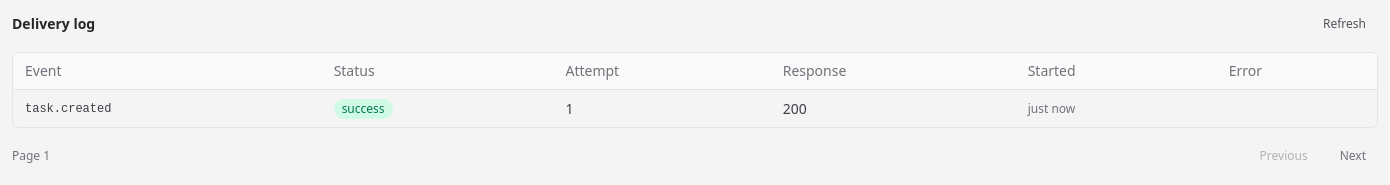
Test case: WebhookDeliveries pagination › disables Next when hasMore=false and forwards the cursor when Next is clicked
Expected: the number of rows with test id "webhook-delivery-row" is 1, [13,90,1377,127]
Click the button with test id "webhook-deliveries-next": {"x": 1353, "y": 156} [1328,144,1378,168]
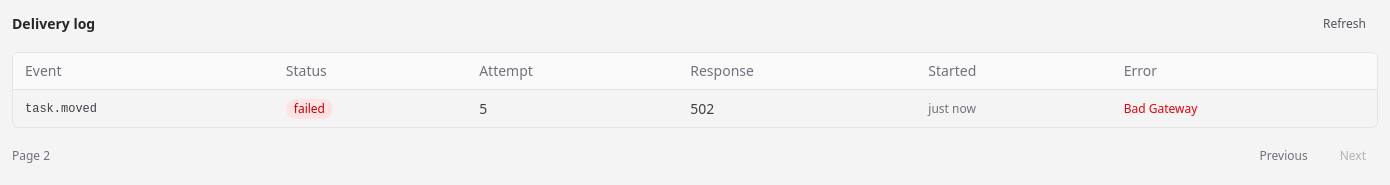
Expected: the number of rows with test id "webhook-delivery-row" is 1, [13,90,1377,127]
Now the button with test id "webhook-deliveries-next" is disabled, box [1328,144,1378,168]
